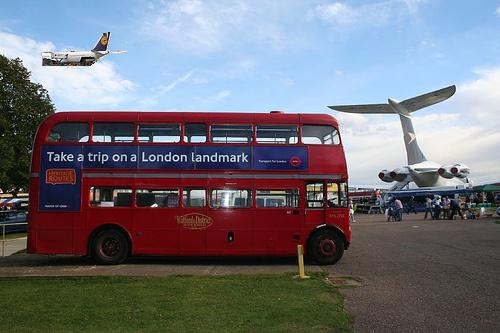tampered: (42, 33, 127, 66)
